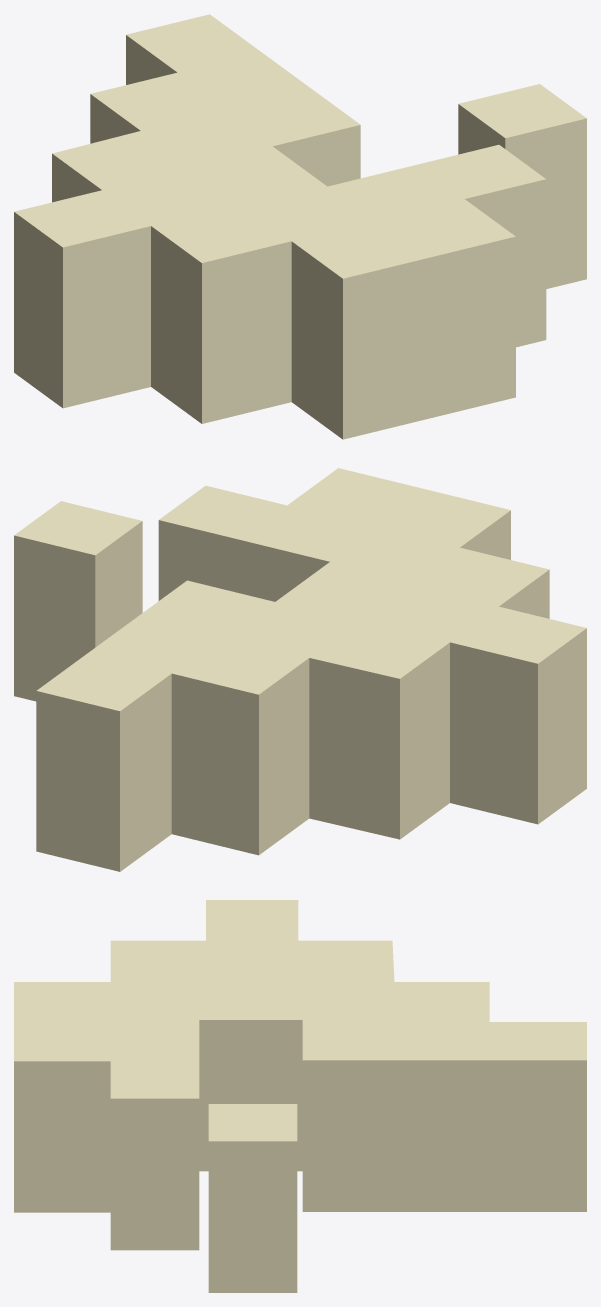
Rendered from garbage_415x14.gltf.
3 renders of one model, top to bottom at view 1: azimuth 30°, elevation 25°; view 2: azimuth 150°, elevation 25°; view 3: azimuth 270°, elevation 25°, orthographic. The views are drawn at different scales.
Visible parts, largest first — view 1: garbage_415x14; view 2: garbage_415x14; view 3: garbage_415x14.
Part boxes in pixels (x1,y1,x2,y2): garbage_415x14: [14, 14, 586, 439]; garbage_415x14: [14, 468, 586, 871]; garbage_415x14: [14, 900, 586, 1292].
Bounding box in the file's own units: 0.3698 × 0.1082 × 0.371.
Materials: 1 (1 with a texture image).
